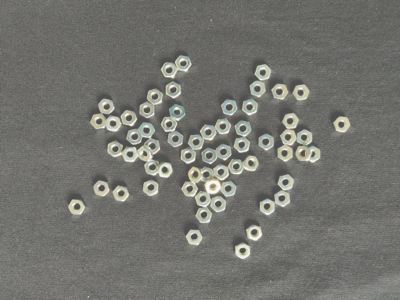nut: (292, 84, 310, 101), (271, 83, 289, 100), (278, 174, 295, 191), (255, 64, 272, 81), (242, 99, 259, 116), (204, 178, 221, 195), (188, 134, 205, 151), (188, 167, 205, 184), (175, 55, 192, 72), (169, 104, 186, 121), (161, 62, 178, 79), (107, 141, 124, 158), (333, 117, 351, 133), (295, 146, 313, 162), (277, 144, 293, 162), (275, 190, 291, 208), (247, 224, 263, 242), (143, 179, 159, 197), (297, 129, 313, 146), (282, 113, 299, 129), (281, 129, 297, 146), (260, 199, 276, 216), (259, 134, 275, 151), (250, 81, 266, 98), (243, 155, 259, 172), (235, 121, 252, 137), (234, 137, 251, 153), (222, 99, 238, 116), (215, 119, 232, 135), (216, 144, 232, 161), (214, 164, 230, 181), (220, 181, 237, 197), (211, 196, 227, 213), (200, 125, 217, 141), (202, 148, 218, 165), (195, 191, 212, 207), (196, 207, 213, 223), (168, 131, 184, 148), (157, 162, 174, 178), (147, 88, 163, 105), (139, 102, 155, 119), (137, 146, 154, 162), (121, 110, 138, 126), (113, 186, 130, 202), (105, 116, 122, 132), (99, 99, 116, 115), (166, 81, 181, 99), (138, 123, 156, 138), (181, 148, 197, 164), (145, 139, 161, 155), (94, 181, 110, 197), (228, 160, 245, 175), (186, 230, 203, 245), (182, 182, 199, 197), (161, 117, 178, 132), (122, 147, 139, 162), (69, 200, 86, 215), (236, 243, 251, 259), (127, 129, 142, 145), (91, 114, 107, 129), (145, 159, 159, 176), (309, 146, 321, 163), (202, 167, 214, 183)
